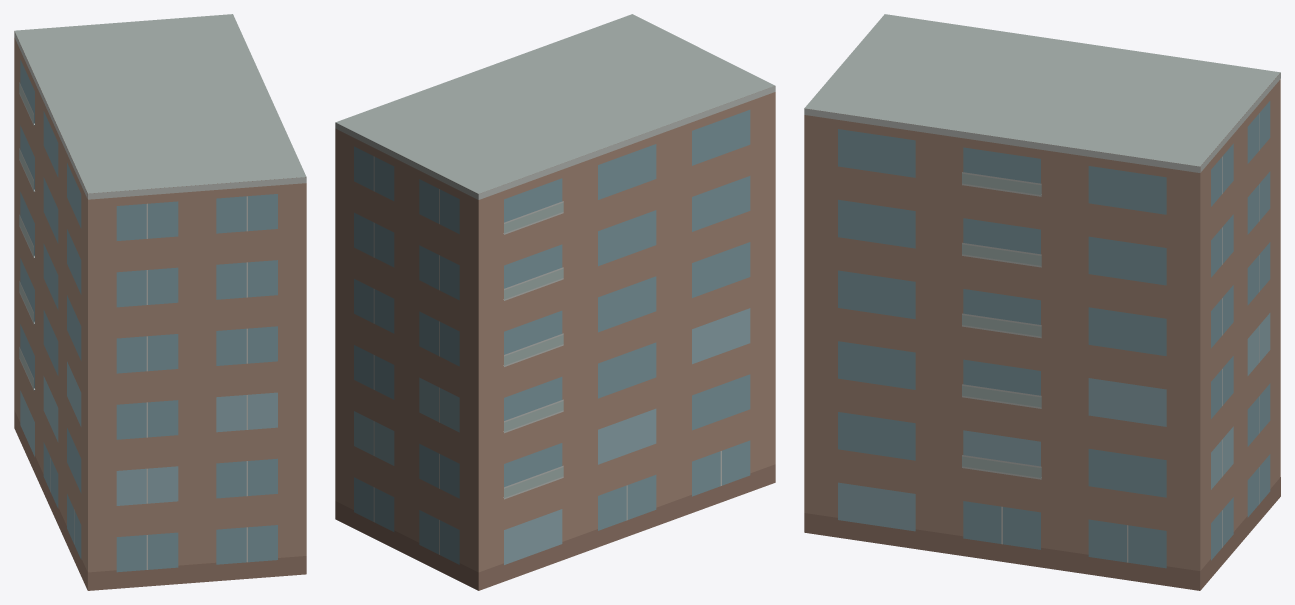
Rendered from survey-upis-32881778.glb.
3 views of the same model, side by side, from view 1: azimuth 30°, elevation 25°; view 2: azimuth 150°, elevation 25°; view 3: azimuth 270°, elevation 25° (orthographic). The views are drawn at different scales.
Parts seen in each view (by area): view 1: survey-upis-32881778.tmp; view 2: survey-upis-32881778.tmp; view 3: survey-upis-32881778.tmp.
Boxes of the visible parts, x1,y1,x2,y2 form: survey-upis-32881778.tmp: [14, 14, 306, 590]; survey-upis-32881778.tmp: [335, 14, 775, 590]; survey-upis-32881778.tmp: [804, 14, 1280, 590].
Bounding box in the file's own units: 12.2 × 15.8 × 16.09.
